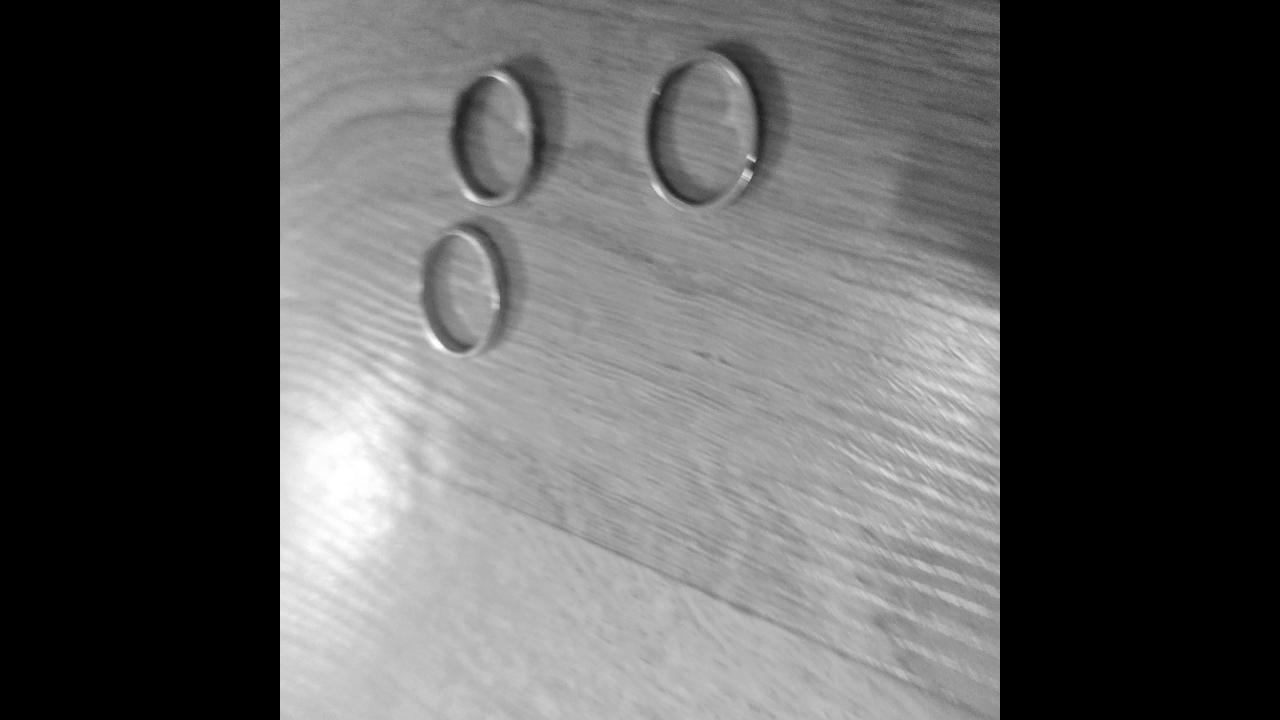ring: (642, 44, 761, 214), (446, 62, 545, 208), (418, 222, 511, 356)
